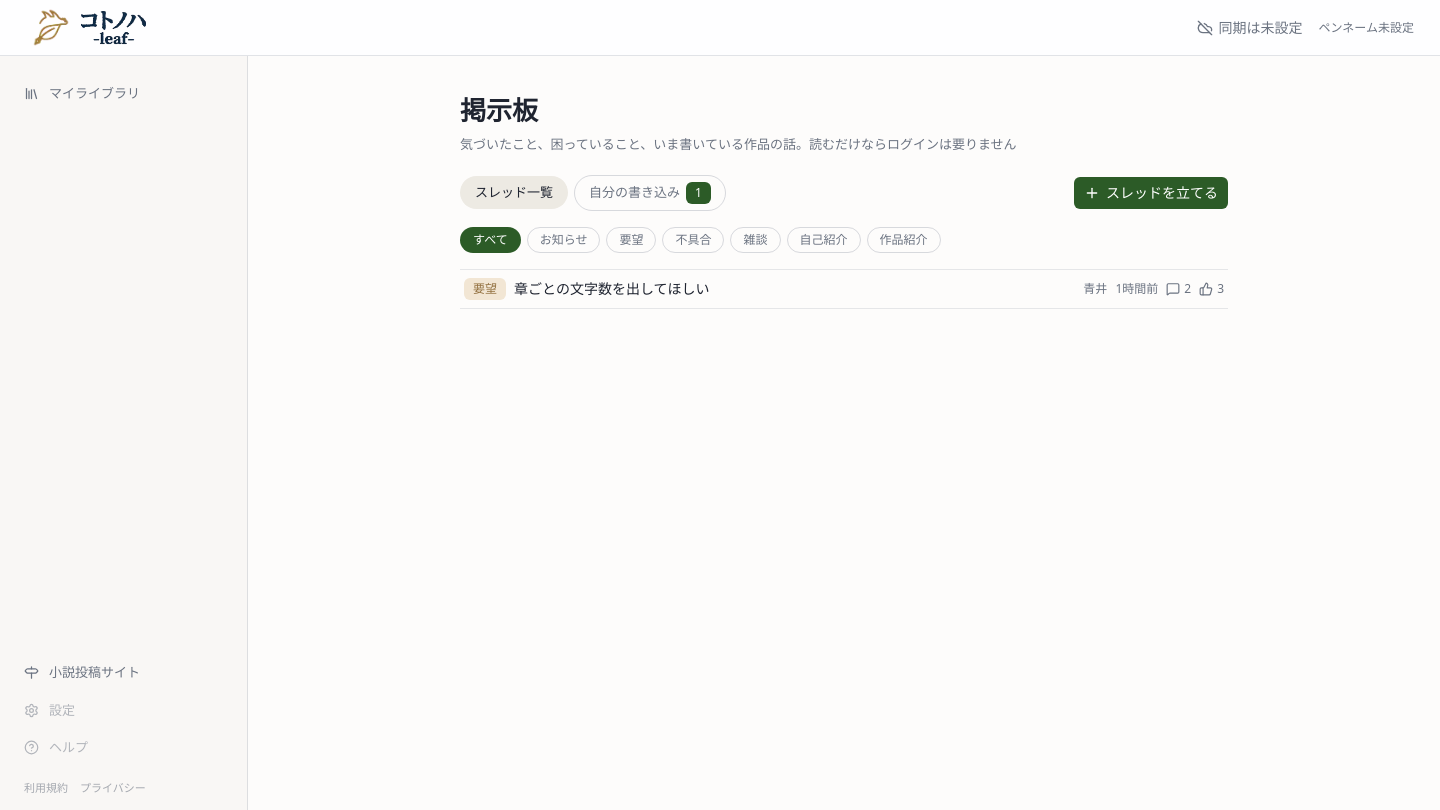
Test: BoardPage（掲示板の一覧） › 自分が書いたスレッドが最後に見た時刻より後に動いていたら、タブに未読バッジを出す
Check: the text "1" is shown, box [686,182,711,204]
Click the button "自分の書き込み 1". click: point(650, 192)
box: [574,174,726,210]
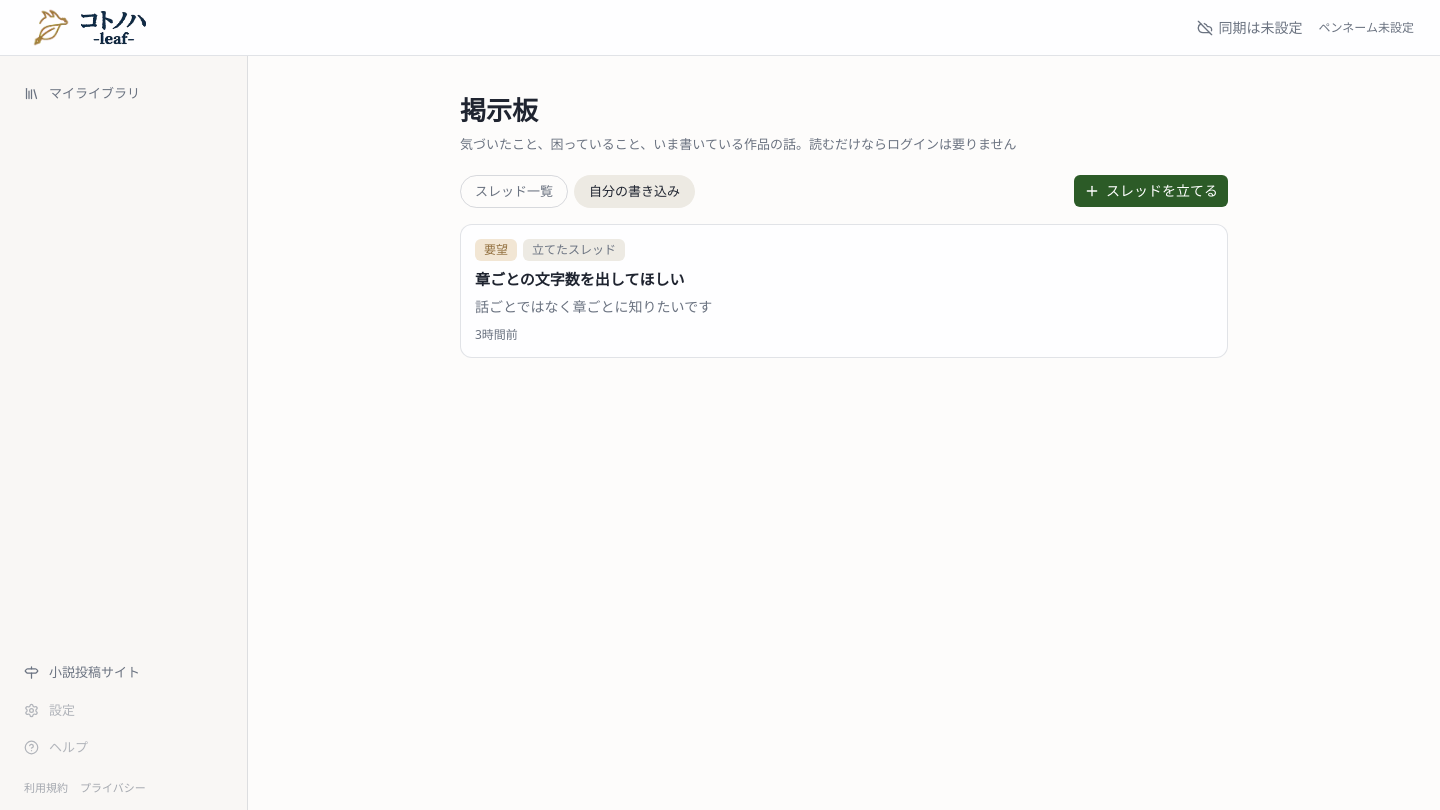
Check: the text "1" is gone
Check: the link "要望 立てたスレッド 章ごとの文字数を出してほしい 話ごとではなく章ごとに知りたいです 3時間前" is shown, box [460,224,1228,358]
